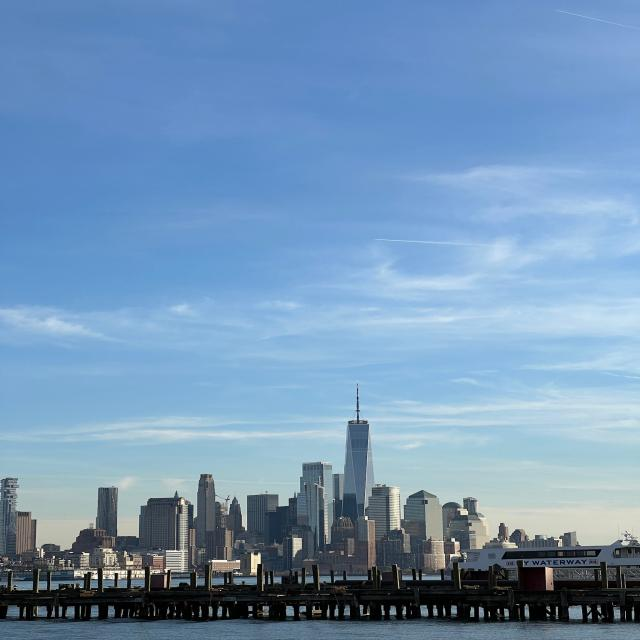WTC: (342, 381, 374, 522)
